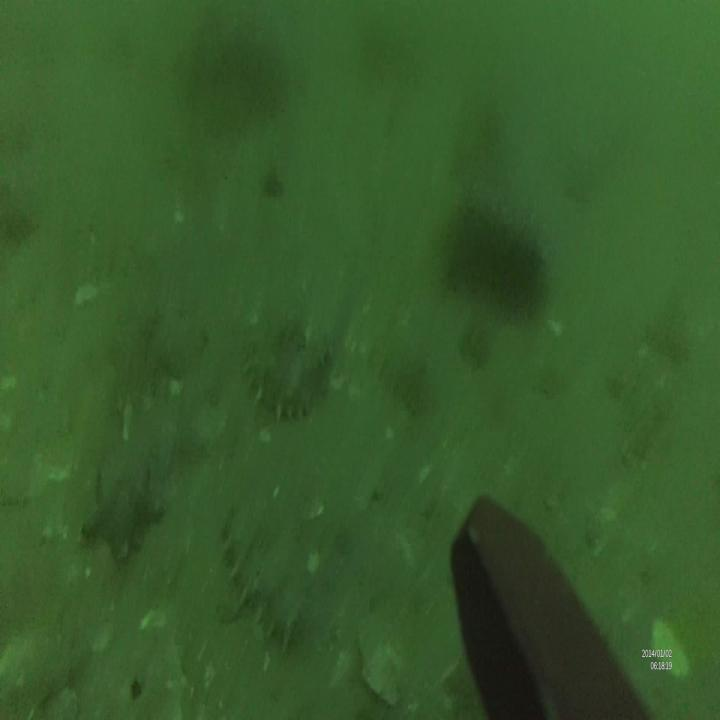echinus: (447, 206, 508, 291), (491, 227, 542, 319)
holothurian: (217, 526, 293, 643), (237, 320, 327, 413)
starfish: (80, 462, 158, 554)
